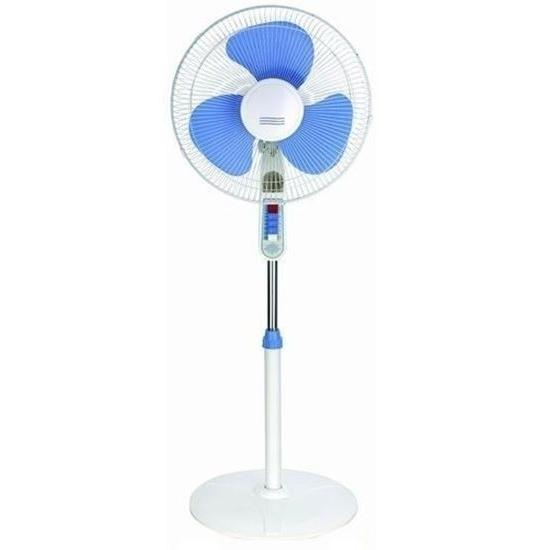fan: (147, 0, 398, 550)
